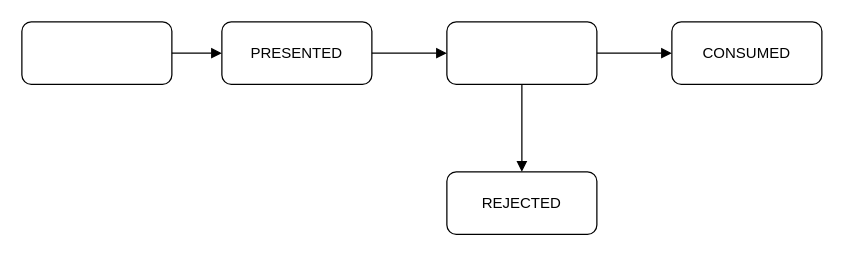
The diagram is 844 pixels wide and 256 high, and some of its shapes have lost their labels. Each missing label, with the centre of its shape:
"ISSUED" belongs at pixel 96 52.
"VALIDATING" belongs at pixel 521 52.
